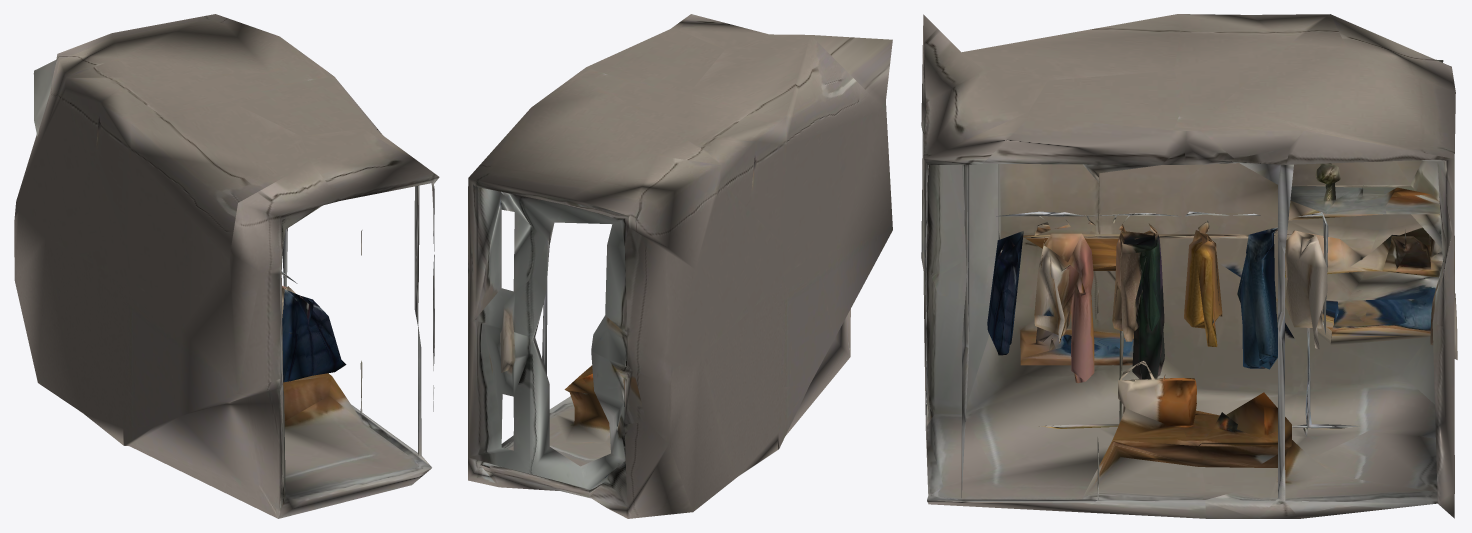
The model's file is frontclv_lod1.glb.
3 views of the same model, side by side, from view 1: azimuth 30°, elevation 25°; view 2: azimuth 150°, elevation 25°; view 3: azimuth 270°, elevation 25° (orthographic). The views are drawn at different scales.
Visible parts, largest first — view 1: tripo_node_1101fbf4-2962-4fb8-ab8f-bee9e8e9e34c; view 2: tripo_node_1101fbf4-2962-4fb8-ab8f-bee9e8e9e34c; view 3: tripo_node_1101fbf4-2962-4fb8-ab8f-bee9e8e9e34c.
Part boxes in pixels (x1,y1,x2,y2): tripo_node_1101fbf4-2962-4fb8-ab8f-bee9e8e9e34c: (14,14,439,518); tripo_node_1101fbf4-2962-4fb8-ab8f-bee9e8e9e34c: (468,14,892,518); tripo_node_1101fbf4-2962-4fb8-ab8f-bee9e8e9e34c: (921,14,1457,518).
Size of the model in its own units: 1.36 by 2.1 by 2.63.
Materials: 1 (1 with a texture image).
